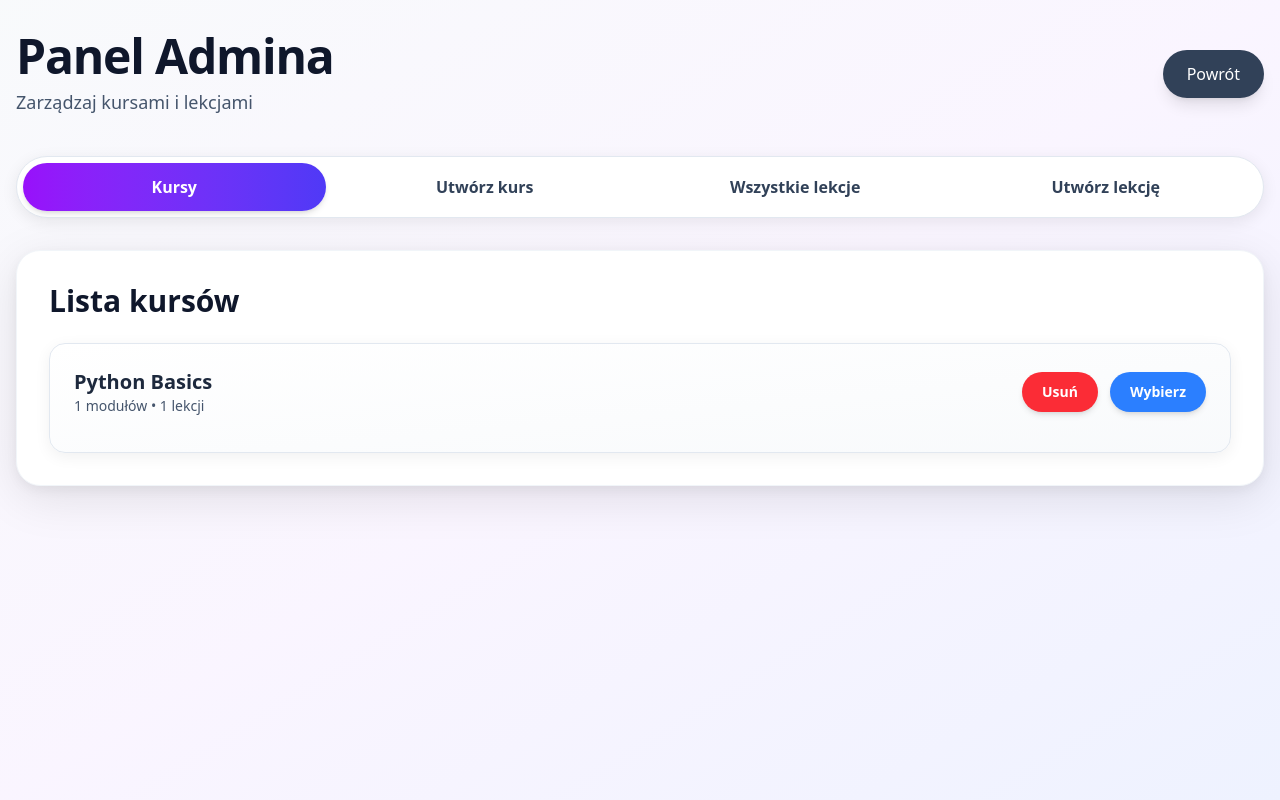
Test case: AdminPanel › Tab Navigation › switches to create-lesson tab and shows warning if no module selected
expect the heading "Python Basics" is shown: met, box x1=74 y1=368 x2=212 y2=396
Click the button "Utwórz lekcję" at x=1106, y=187, box x1=954 y1=163 x2=1257 y2=211
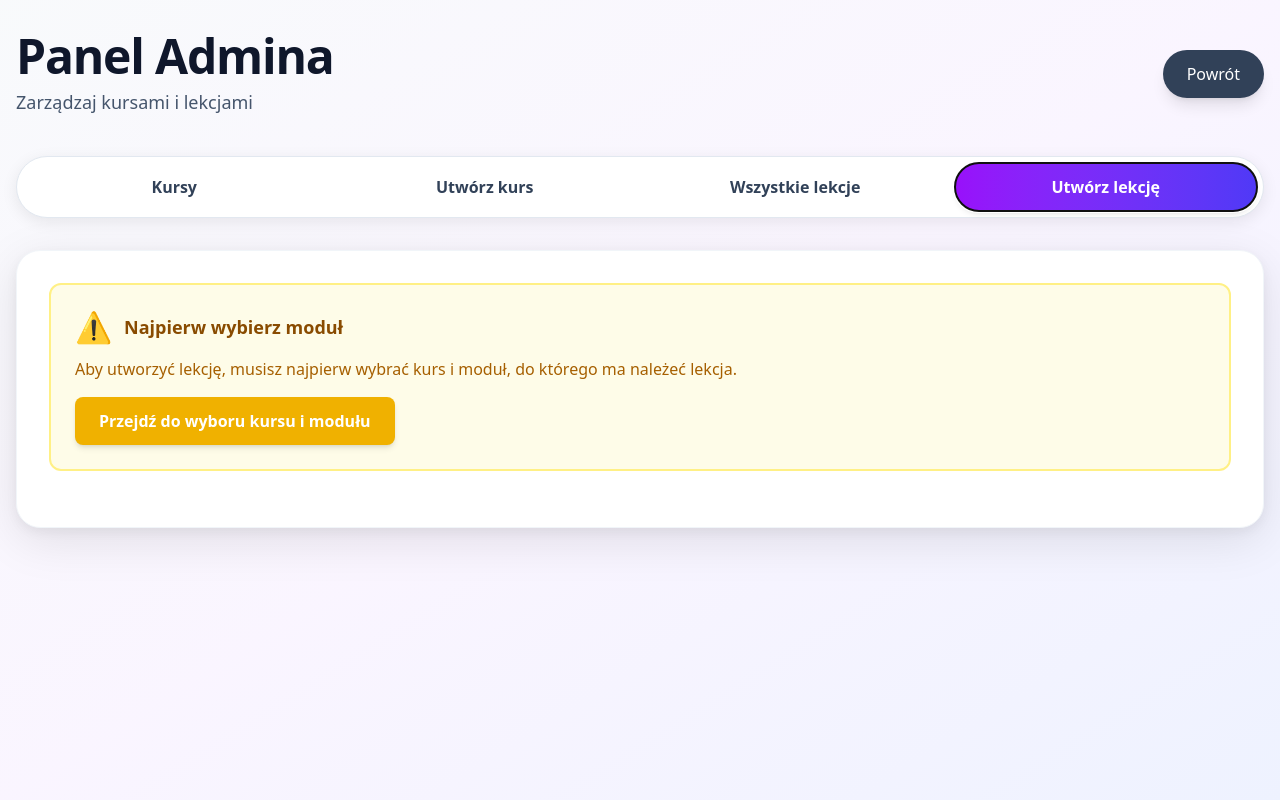
expect the heading "Najpierw wybierz moduł" is shown: met, box x1=124 y1=313 x2=343 y2=341
